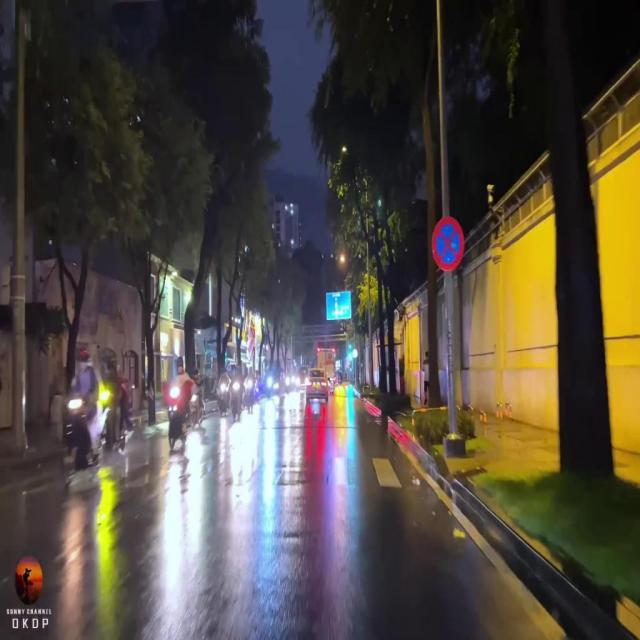cam_dung_xe_va_do_xe: (432, 215, 464, 272)
khac: (326, 291, 352, 320)
